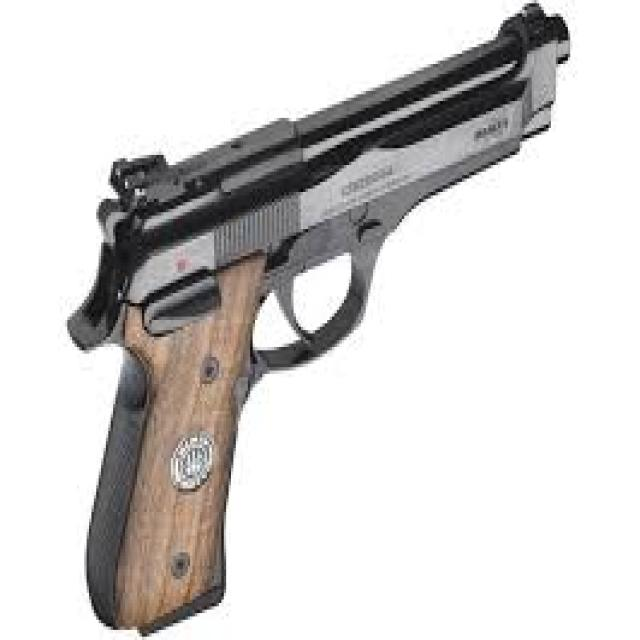pistol: (60, 1, 580, 640)
